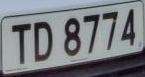4: (120, 6, 138, 49)
7: (82, 11, 103, 58), (101, 9, 121, 54)
8: (61, 12, 85, 62)
D: (32, 16, 56, 67)
T: (8, 20, 34, 67)
